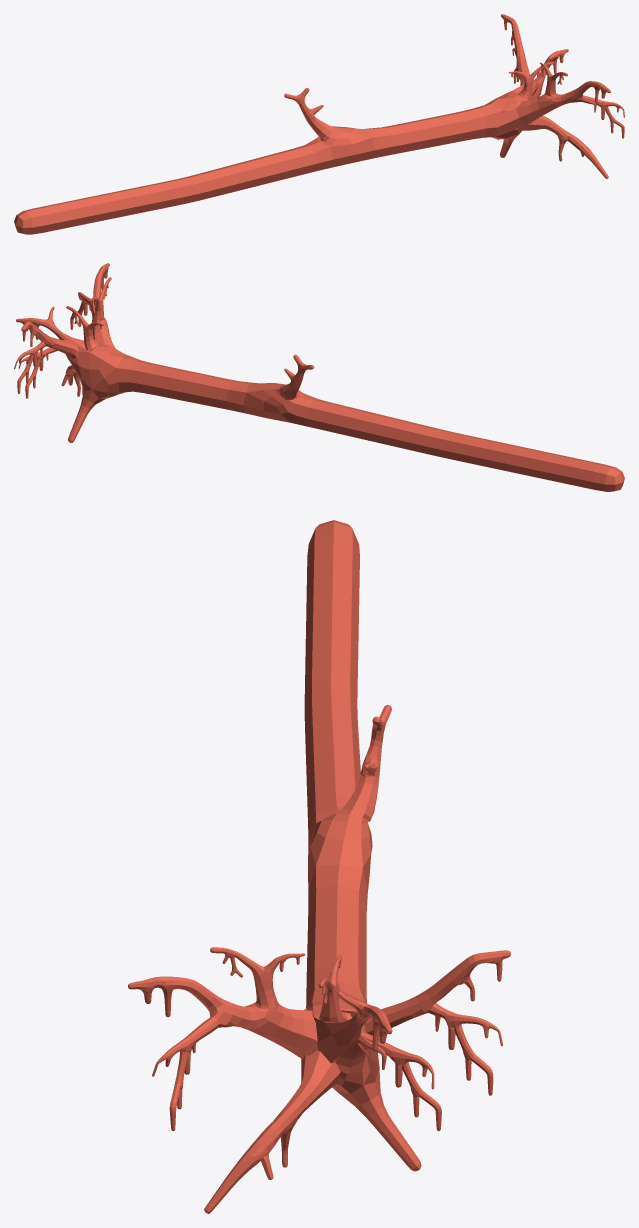
Rendered from TreeTrunk.fbx.
3 renders of one model, top to bottom at view 1: azimuth 30°, elevation 25°; view 2: azimuth 150°, elevation 25°; view 3: azimuth 270°, elevation 25°, orthographic. The views are drawn at different scales.
Parts seen in each view (by area): view 1: Cube; view 2: Cube; view 3: Cube.
Boxes of the visible parts, x1,y1,x2,y2 form: Cube: (14,14,624,234); Cube: (14,263,624,491); Cube: (128,520,510,1213).
Bounding box in the file's own units: 694 × 148 × 203.
